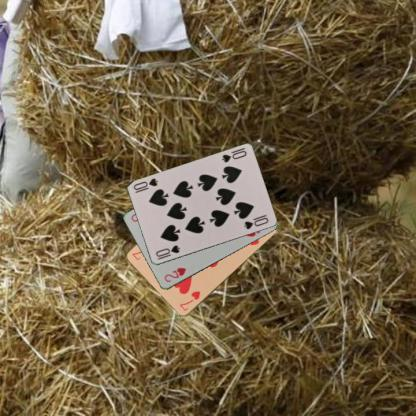10s: (153, 243, 181, 261), (219, 148, 247, 164)
2h: (162, 265, 187, 284)
7h: (177, 288, 201, 313)
